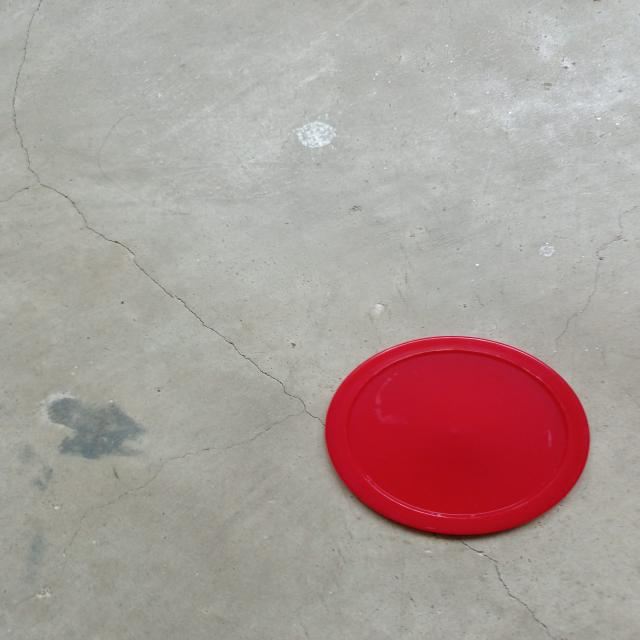chip: (322, 334, 590, 537)
